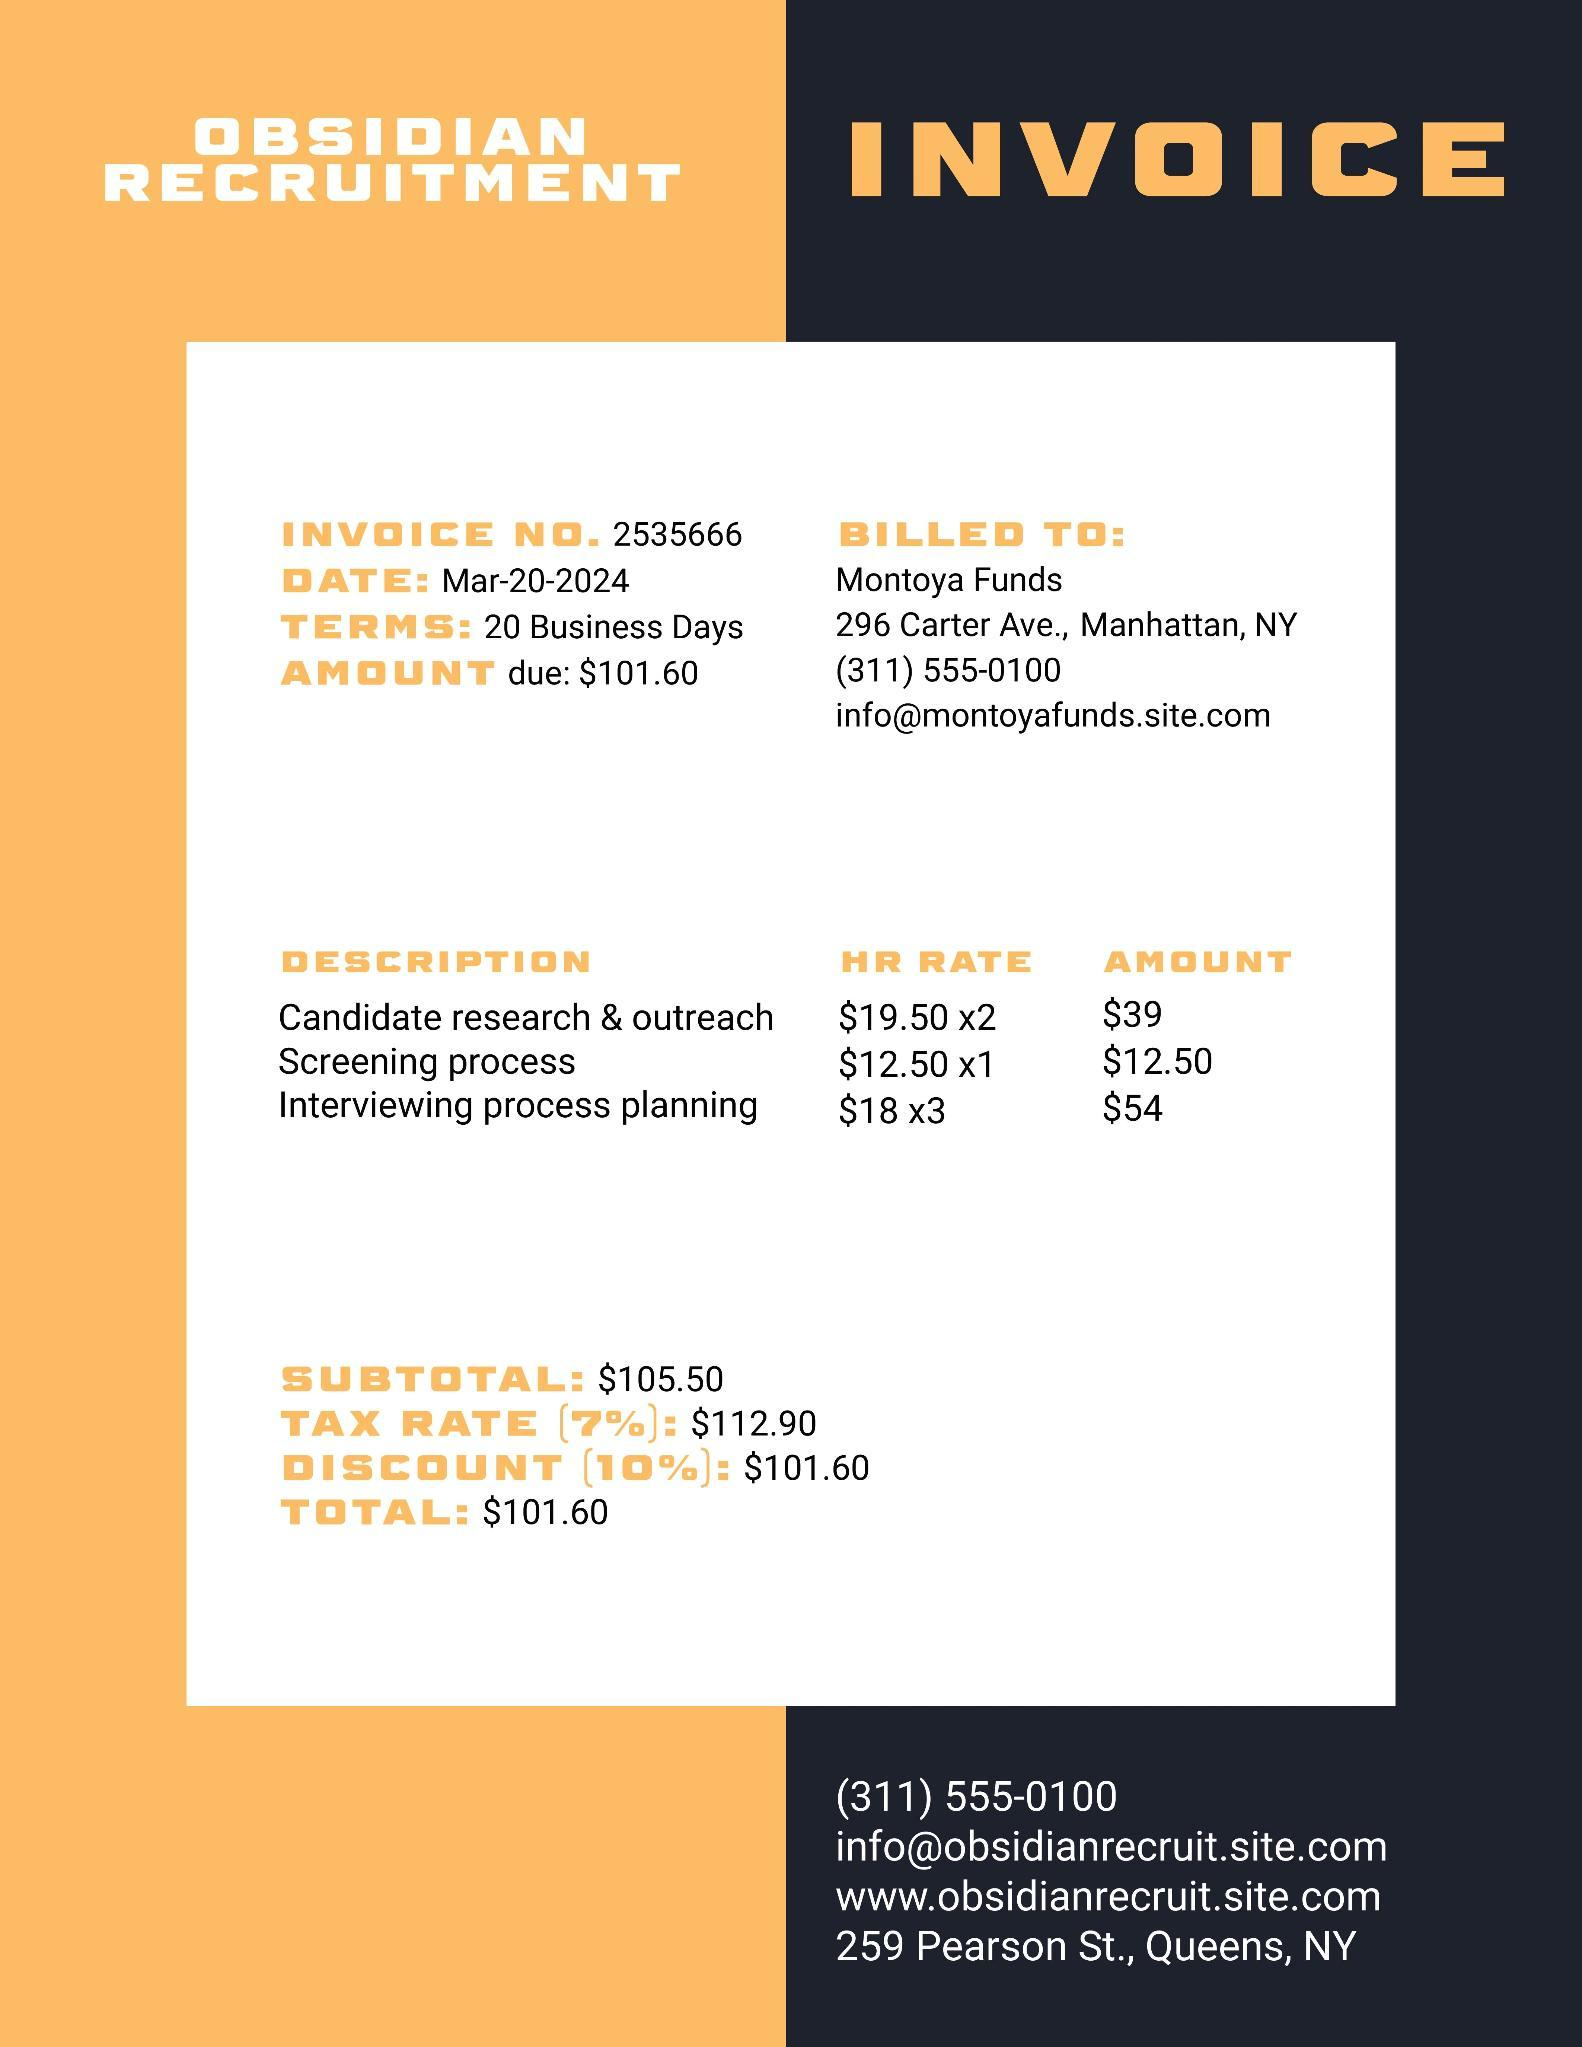ROI: (244, 928, 1331, 1150), (244, 1348, 874, 1549), (828, 511, 1337, 759), (825, 1772, 1410, 1977), (262, 501, 771, 706), (835, 91, 1522, 226), (87, 113, 700, 217)
